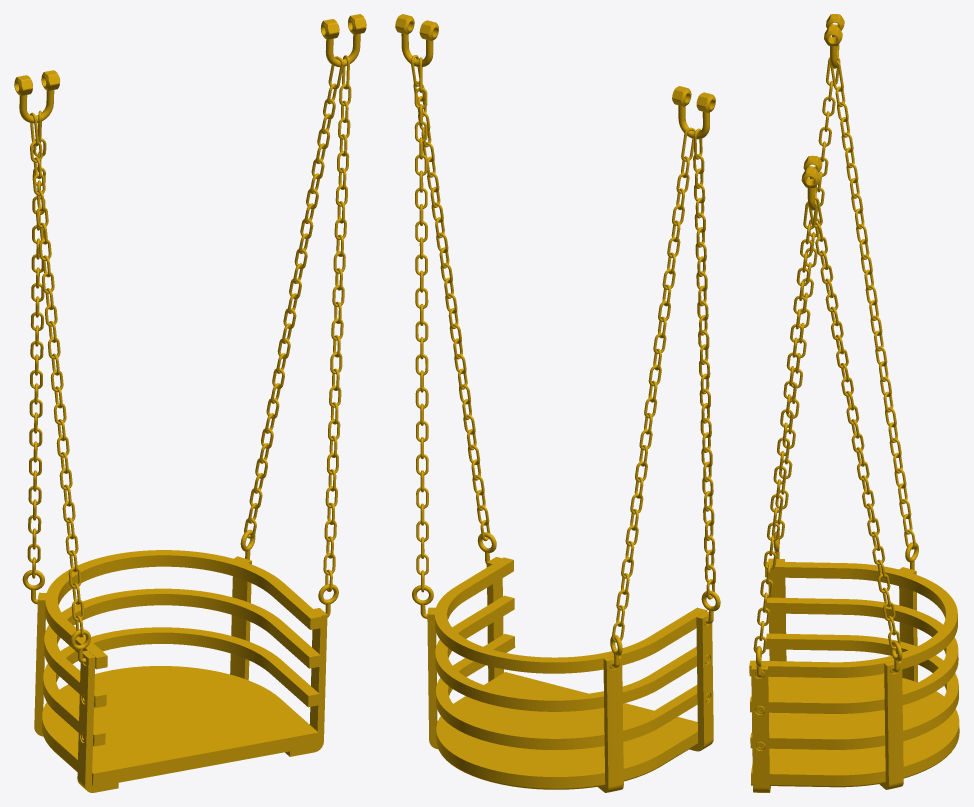
Rendered from luxury_swing.glb.
3 views of the same model, side by side, from view 1: azimuth 30°, elevation 25°; view 2: azimuth 150°, elevation 25°; view 3: azimuth 270°, elevation 25° (orthographic). The views are drawn at different scales.
Bounding box in the file's own units: 0.0718 × 0.1444 × 0.0416.
